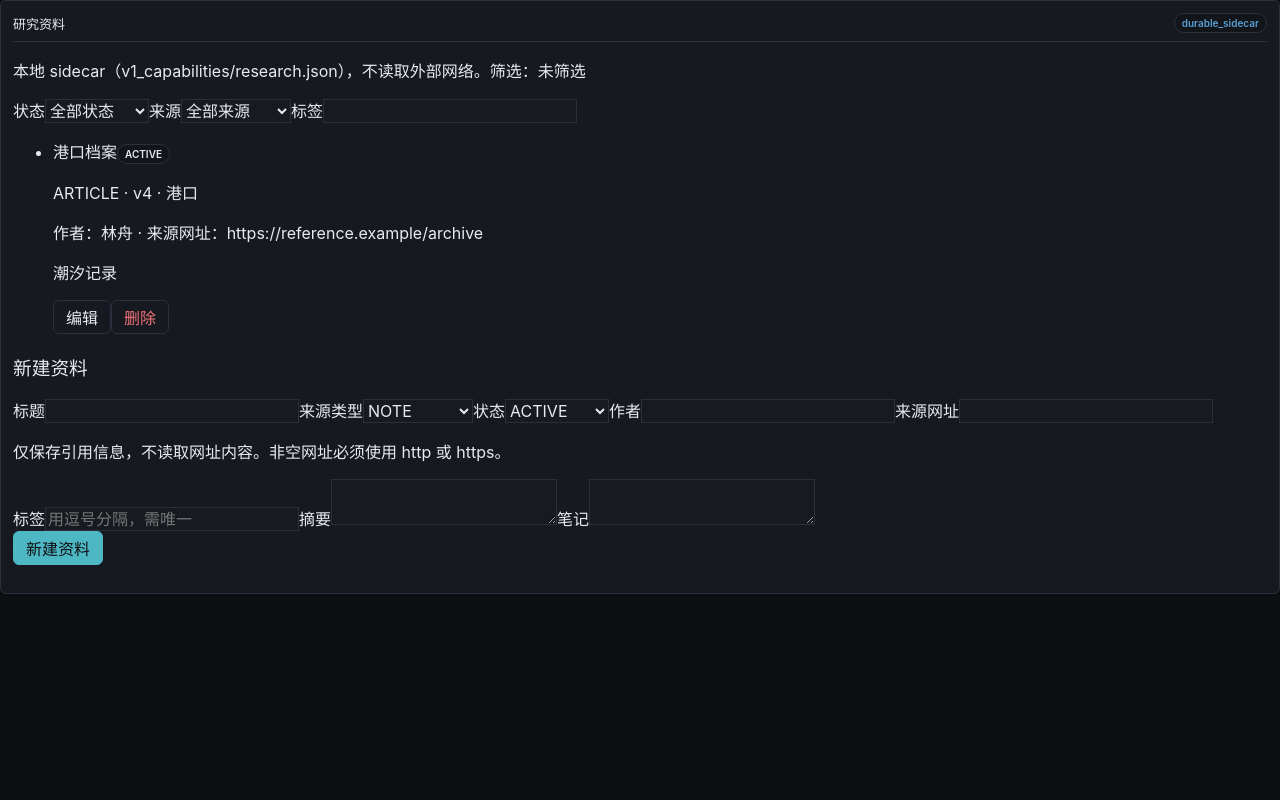
it: research panel › keeps the unsaved draft, reports 409 and refreshes the same novel
The width and height of the screenshot is (1280, 800).
Click the button "编辑".
click(82, 317)  # box top-left (53, 300), bottom-right (111, 334)
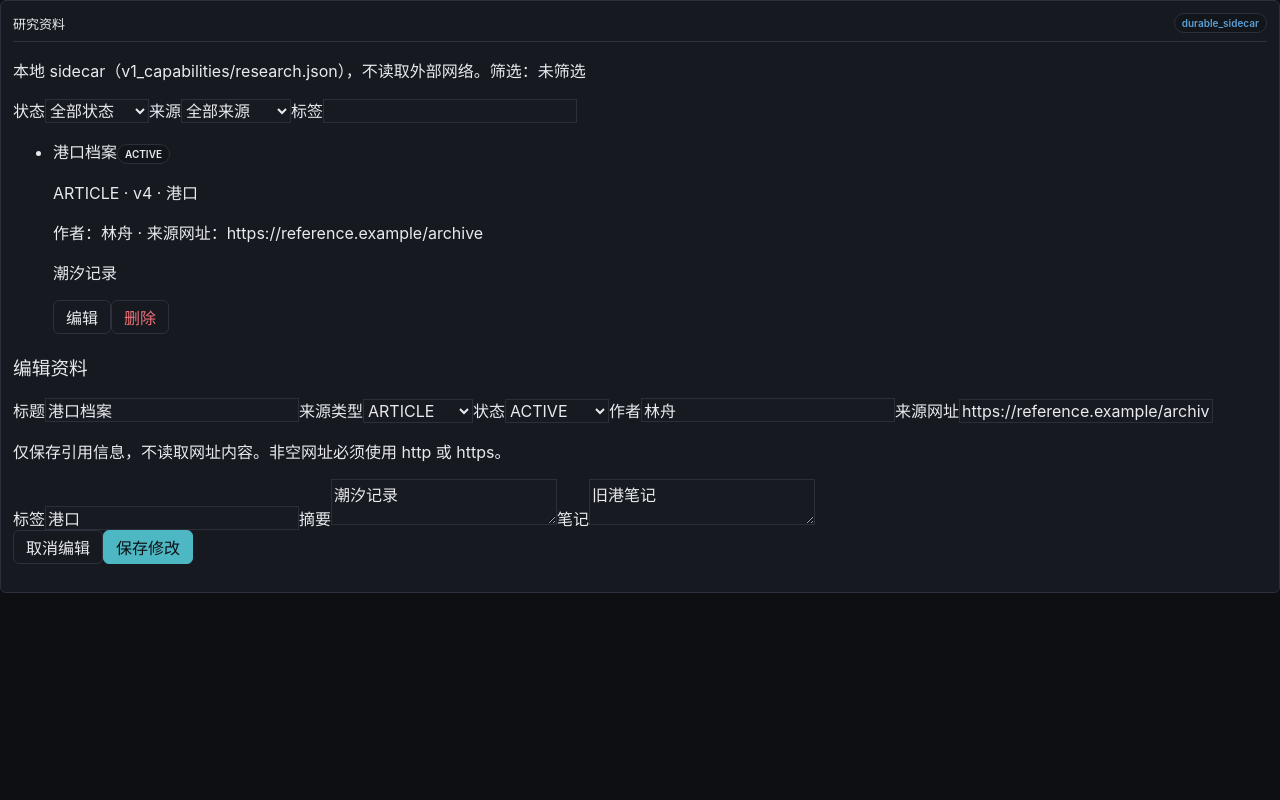
Replace the text in the field labelled "标题" with "尚未保存的修订" at x=172, y=410, box top-left (45, 398), bottom-right (299, 422)
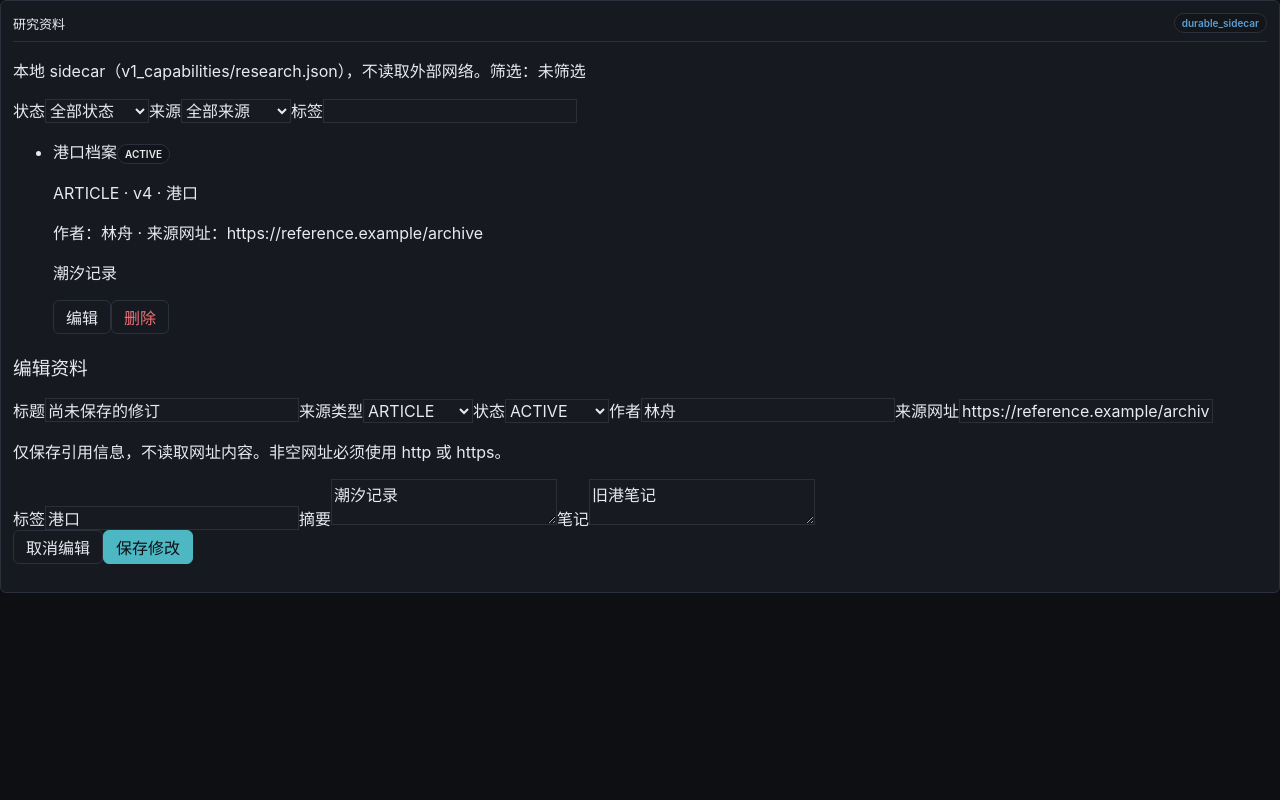
Replace the text in the field labelled "作者" with "未保存作者" at x=768, y=410, box top-left (641, 398), bottom-right (895, 422)
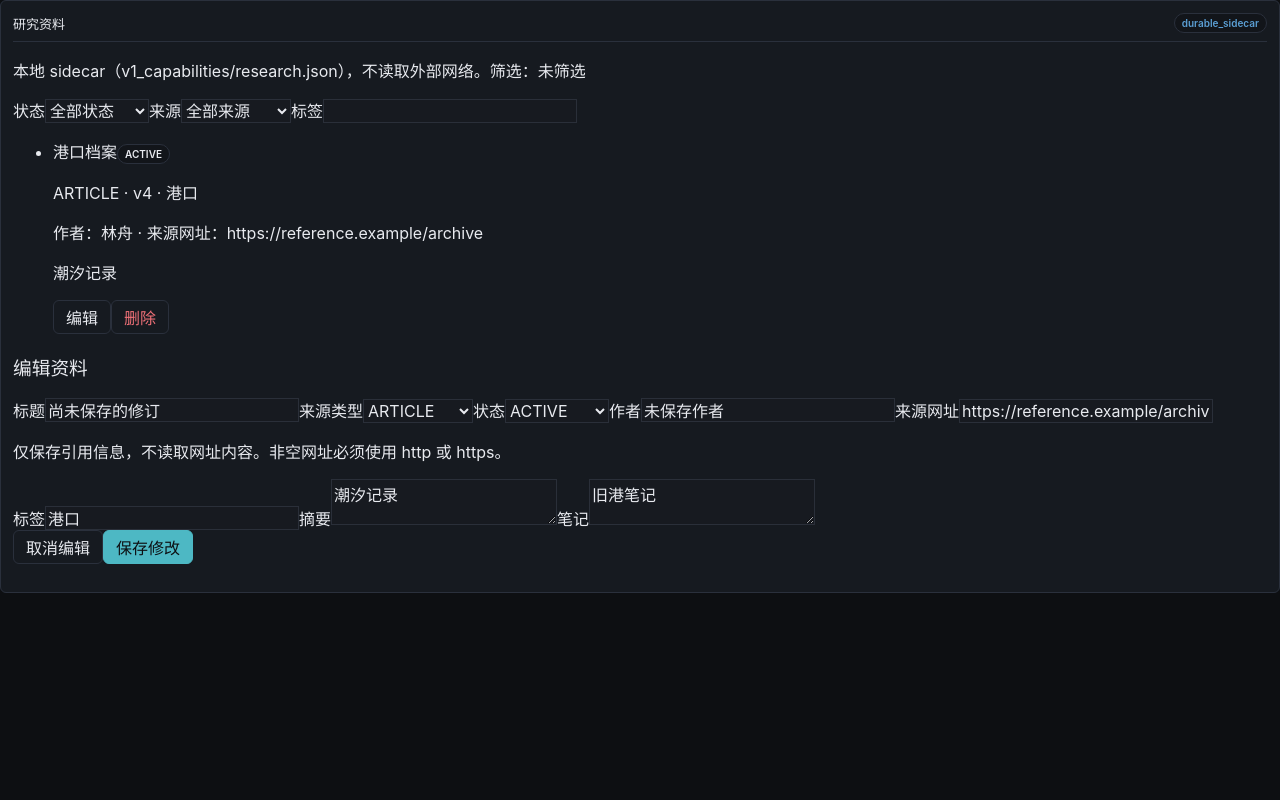
Click the button "保存修改".
click(148, 547)  # box top-left (103, 530), bottom-right (193, 564)
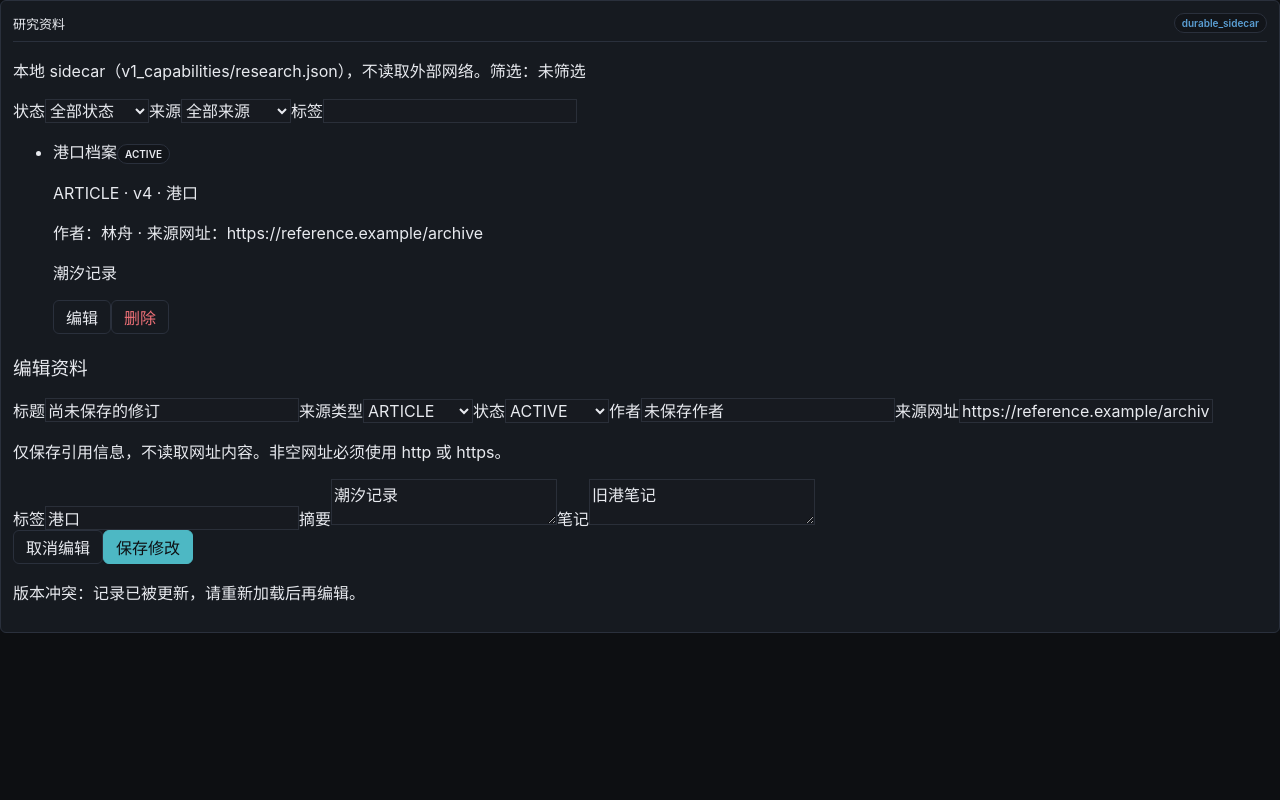
expect the heading "编辑资料" is shown: met, box top-left (13, 357), bottom-right (88, 380)
expect the text "版本冲突：记录已被更新，请重新加载后再编辑。" is shown: met, box top-left (13, 583), bottom-right (365, 603)
